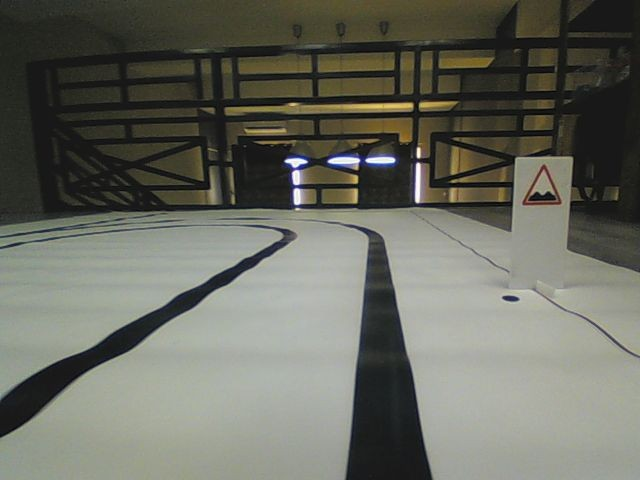Nerov: (521, 162, 563, 205)
